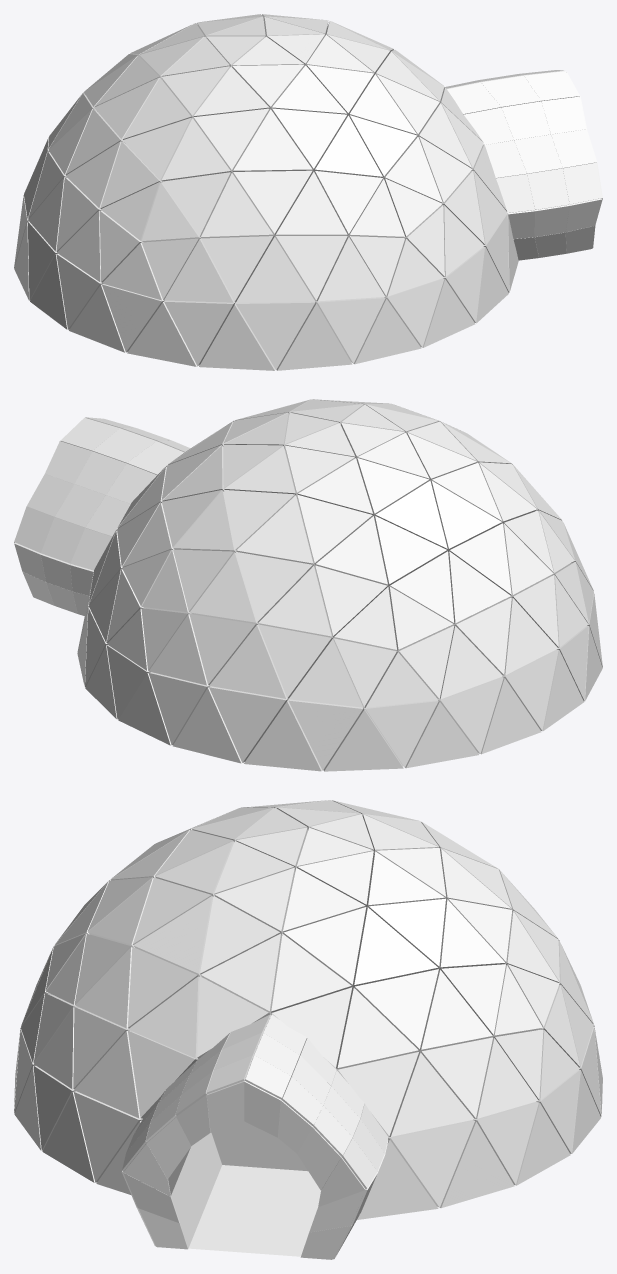
Rendered from igloo.fbx.
The picture shows the model from 3 angles, top to bottom: view 1: azimuth 30°, elevation 25°; view 2: azimuth 150°, elevation 25°; view 3: azimuth 270°, elevation 25°; orthographic projection. The views are drawn at different scales.
Parts seen in each view (by area): view 1: polySurface18; view 2: polySurface18; view 3: polySurface18.
Part boxes in pixels (x1,y1,x2,y2): polySurface18: (14,14,602,370); polySurface18: (14,399,602,771); polySurface18: (14,800,602,1259).
Size of the model in its own units: 11.05 by 4.78 by 9.47.
